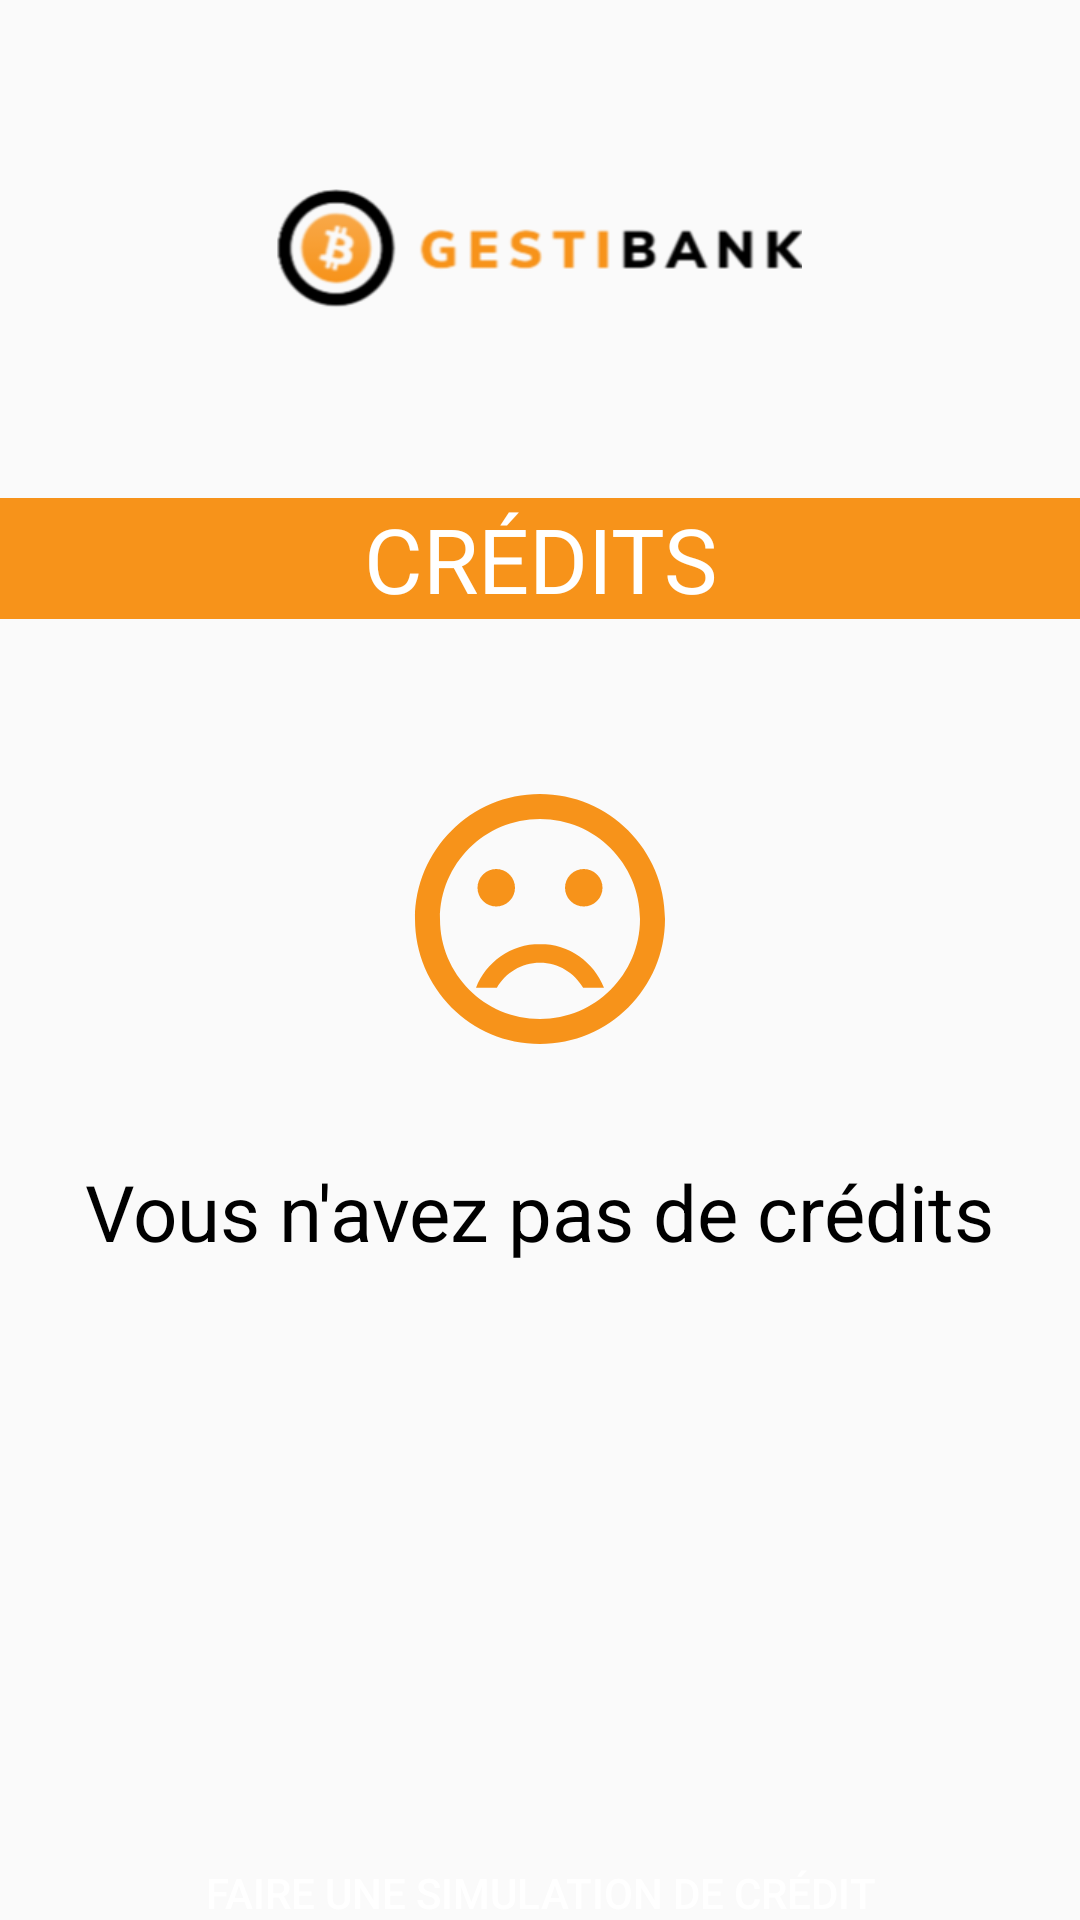

Screen size 1080 x 1920. Icon name, then its center in pixels as (x,y):
sentiment very dissatisfied: (540,919)
